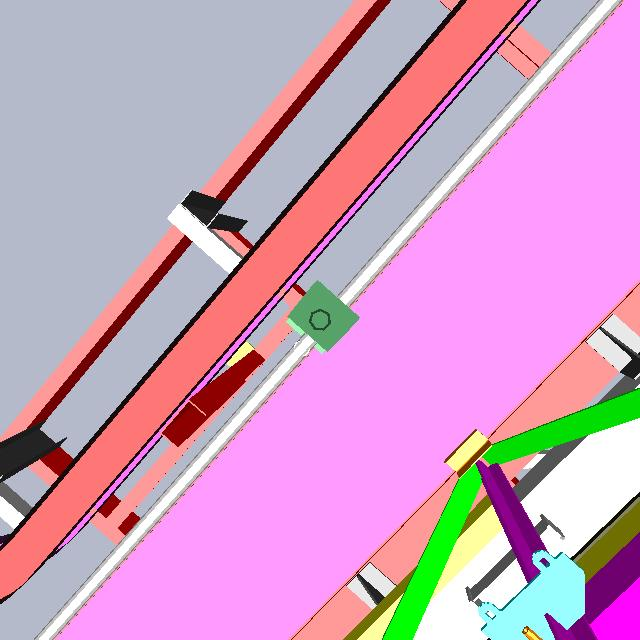Poste: (305, 305, 334, 338)
Soporte: (158, 336, 265, 454)
